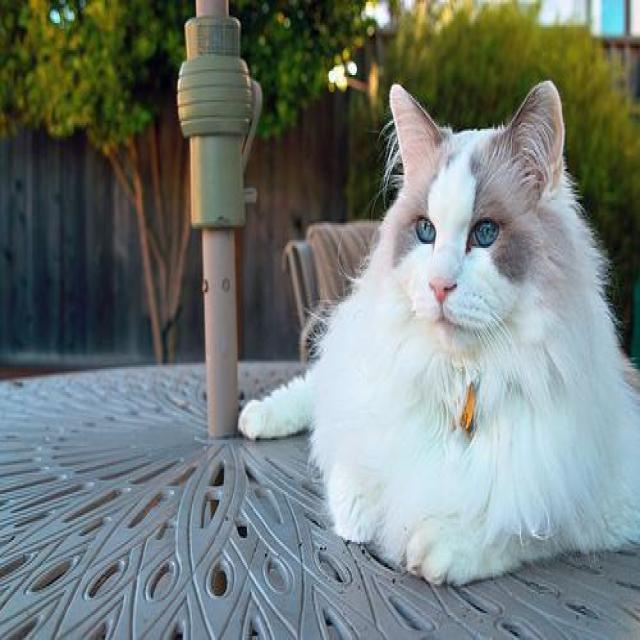cat: (238, 79, 640, 586)
